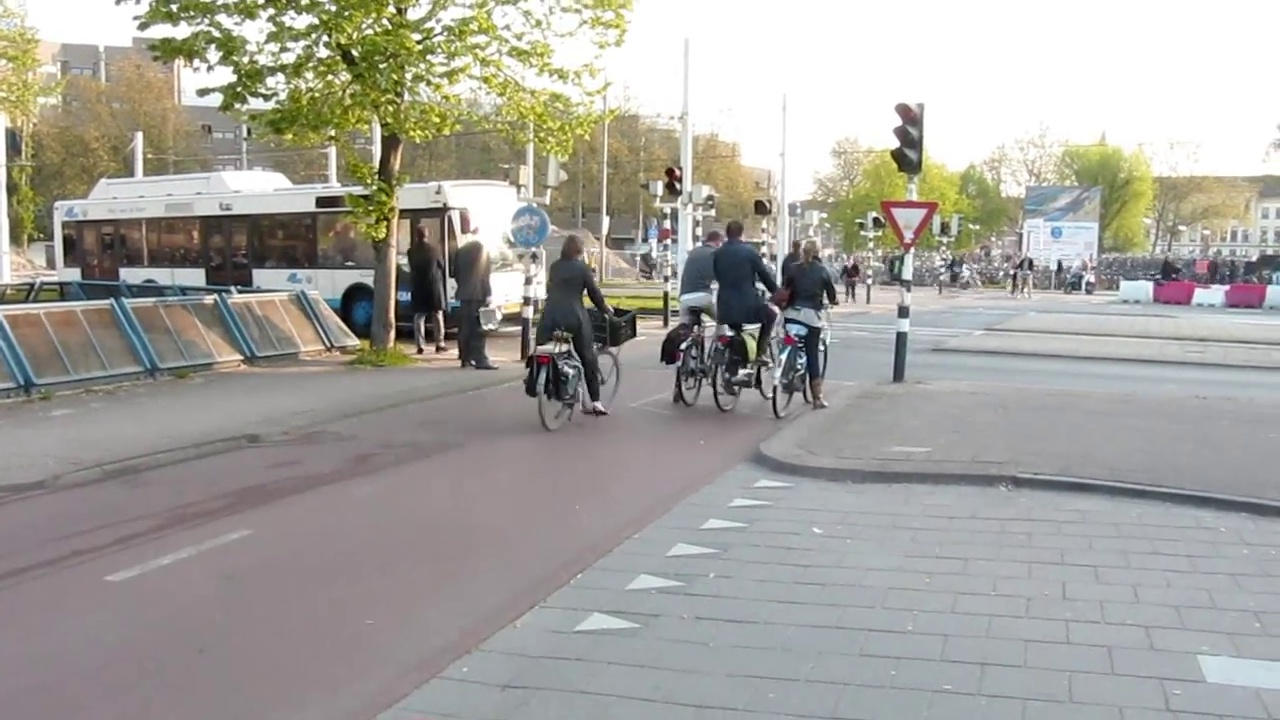cyclist_back: (535, 233, 627, 428), (717, 221, 785, 431), (775, 233, 834, 428), (668, 215, 723, 409)
